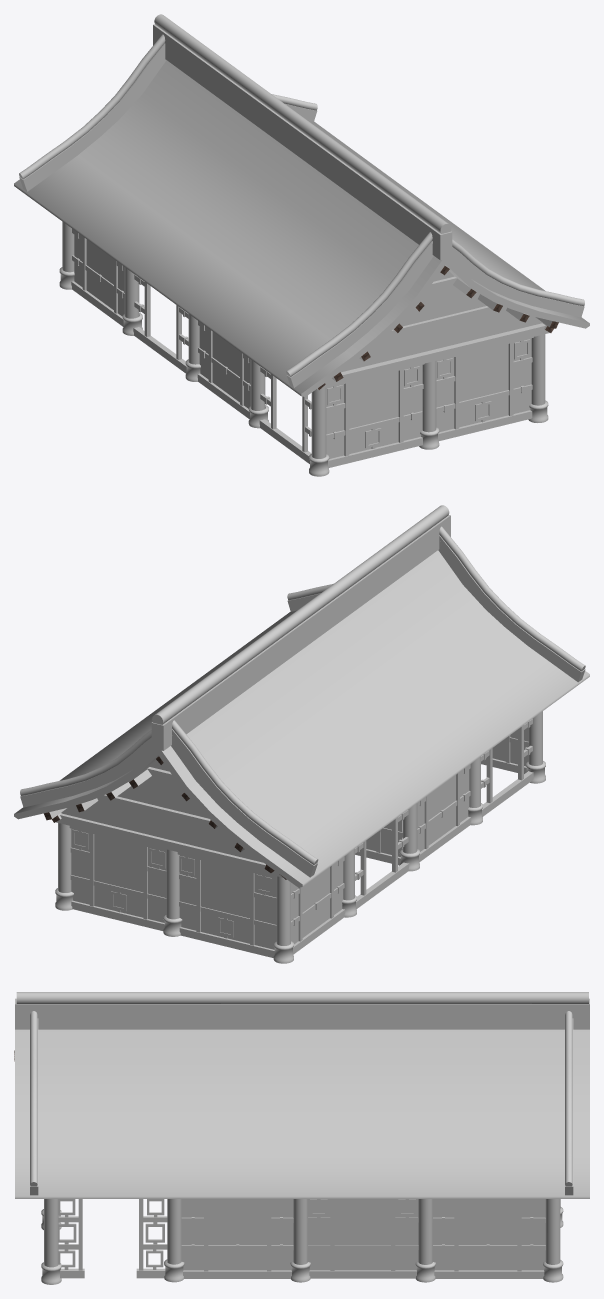
File: building_02.fbx
3 renders of one model, top to bottom at view 1: azimuth 30°, elevation 25°; view 2: azimuth 150°, elevation 25°; view 3: azimuth 270°, elevation 25°, orthographic.
Visible parts, largest first — view 1: polySurface6172; view 2: polySurface6172; view 3: polySurface6172.
Boxes of the visible parts, x1,y1,x2,y2 form: polySurface6172: [14, 14, 589, 476]; polySurface6172: [14, 505, 589, 963]; polySurface6172: [14, 992, 589, 1284].
Bounding box in the file's own units: 10.33 × 7.81 × 17.38.
